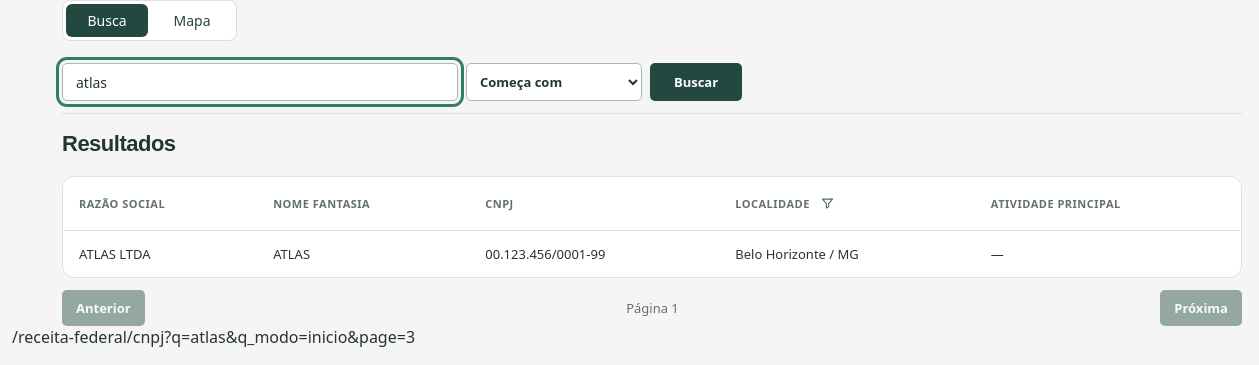
Test: busca empresarial unificada › restaura e muda o modo, reinicia a página e repete a busca
The width and height of the screenshot is (1259, 365).
Expected: the text "ATLAS LTDA" is shown, [79,245,151,263]
Select "Correspondência exata" in the dropdown named "Modo de correspondência" at (554, 82), box [466,63,642,101]
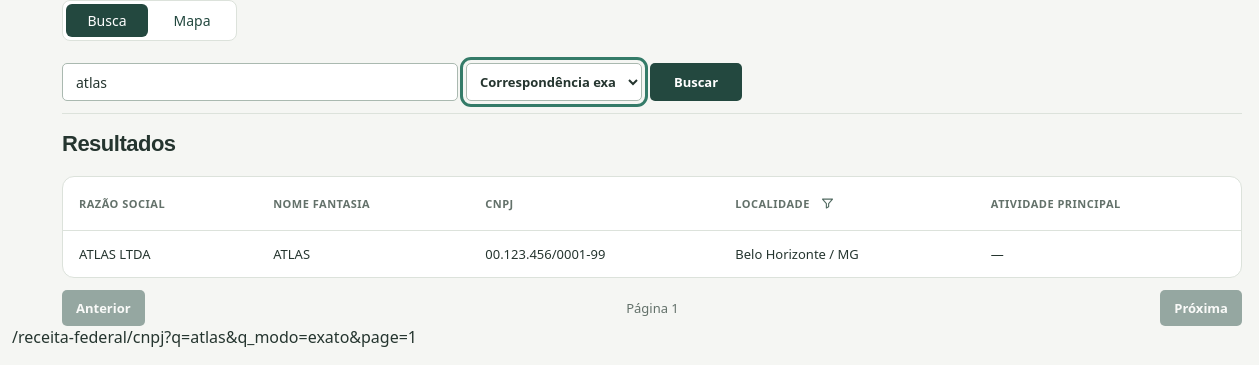
Expected: the text with test id "location" reads "/receita-federal/cnpj?q=atlas&q_modo=exato&page=1", [12,326,417,348]
